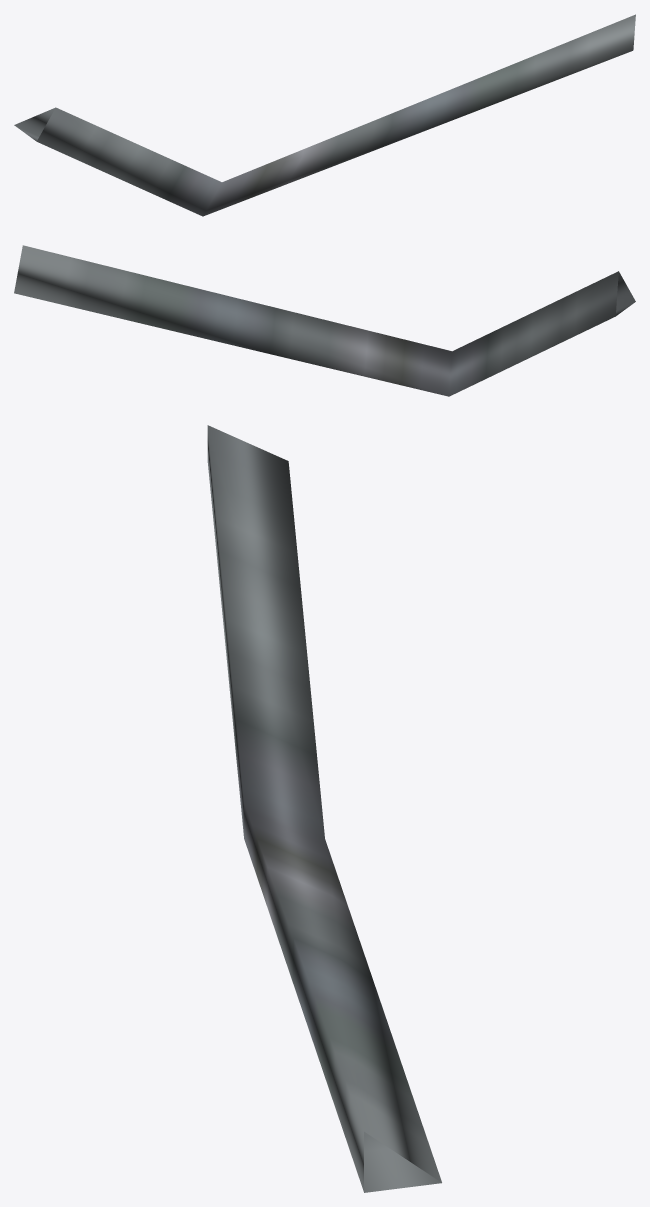
Rendered from tie_fighter_debris_e_l1.fbx.
The picture shows the model from 3 angles, top to bottom: view 1: azimuth 30°, elevation 25°; view 2: azimuth 150°, elevation 25°; view 3: azimuth 270°, elevation 25°; orthographic projection. The views are drawn at different scales.
Parts seen in each view (by area): view 1: mesh_node; view 2: mesh_node; view 3: mesh_node.
Boxes of the visible parts, x1,y1,x2,y2 form: mesh_node: [14, 14, 635, 216]; mesh_node: [14, 245, 635, 396]; mesh_node: [207, 425, 441, 1192].
Bounding box in the file's own units: 1.63 × 0.3745 × 0.2878.
